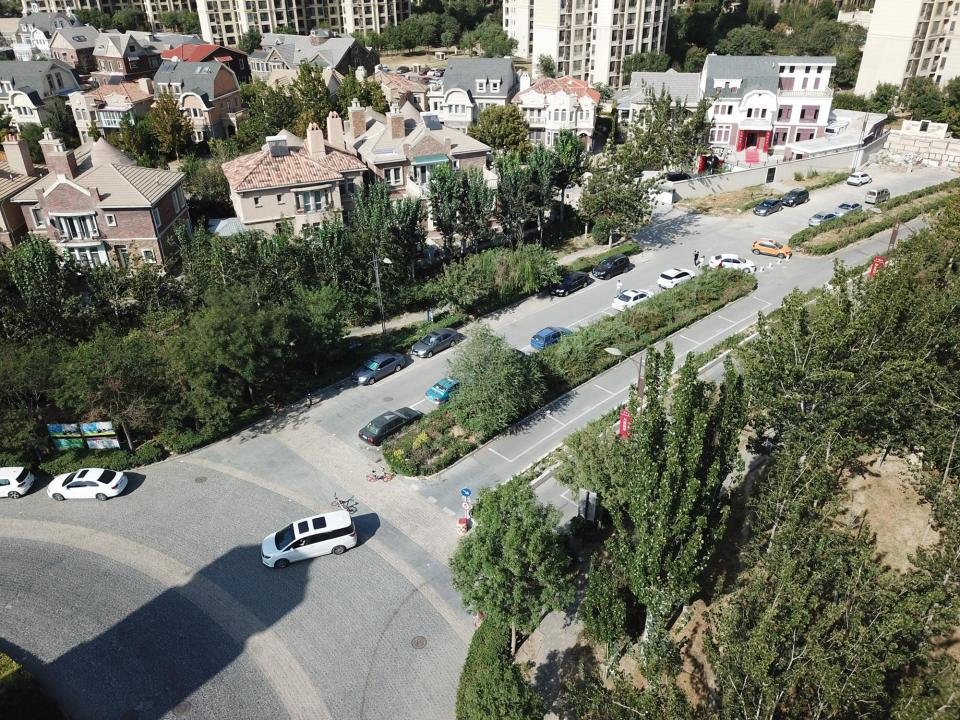car: (261, 510, 358, 568), (47, 469, 129, 500), (351, 352, 405, 386), (426, 376, 484, 405), (410, 327, 461, 358), (479, 347, 531, 377), (0, 465, 35, 498), (549, 271, 592, 297), (530, 326, 574, 350), (612, 288, 655, 312), (709, 252, 757, 273), (593, 254, 630, 281), (751, 238, 792, 260), (656, 268, 697, 289), (779, 187, 809, 208), (753, 199, 782, 216), (808, 212, 838, 228), (830, 201, 862, 216), (846, 171, 872, 186), (427, 68, 439, 77), (435, 68, 447, 77), (396, 66, 409, 74), (418, 68, 431, 76), (430, 78, 443, 86), (419, 77, 433, 84), (378, 65, 390, 72)
van: (358, 407, 424, 447), (864, 187, 890, 205)
